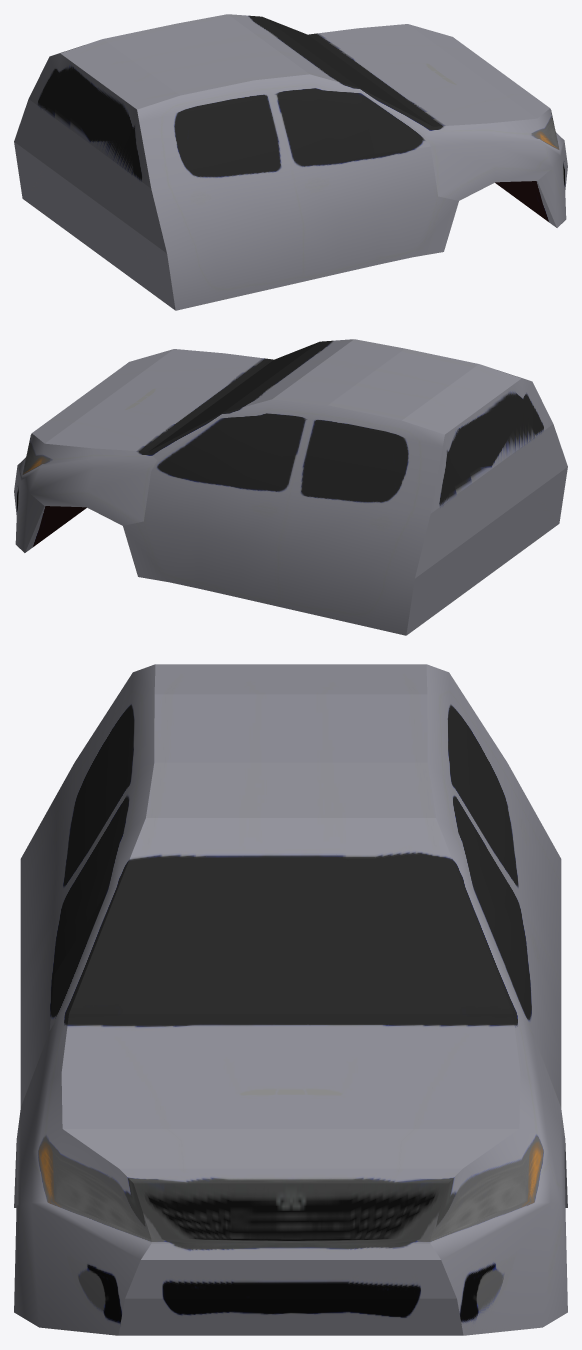
The model's file is lp-suv-argent.glb.
3 renders of one model, top to bottom at view 1: azimuth 30°, elevation 25°; view 2: azimuth 150°, elevation 25°; view 3: azimuth 270°, elevation 25°, orthographic. The views are drawn at different scales.
Parts seen in each view (by area): view 1: Object_35; view 2: Object_35; view 3: Object_35.
Boxes of the visible parts, bbox=[...] form: Object_35: bbox=[14, 14, 567, 310]; Object_35: bbox=[14, 339, 567, 635]; Object_35: bbox=[14, 664, 567, 1335].
Bounding box in the file's own units: 4.12 × 1.7 × 2.59.
1 material, 1 textured.
